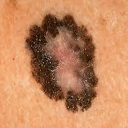Melanoma: (27, 12, 100, 110)
